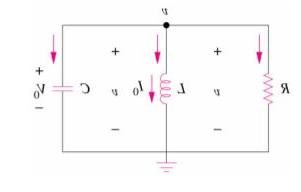inductor: (153, 61, 175, 112)
